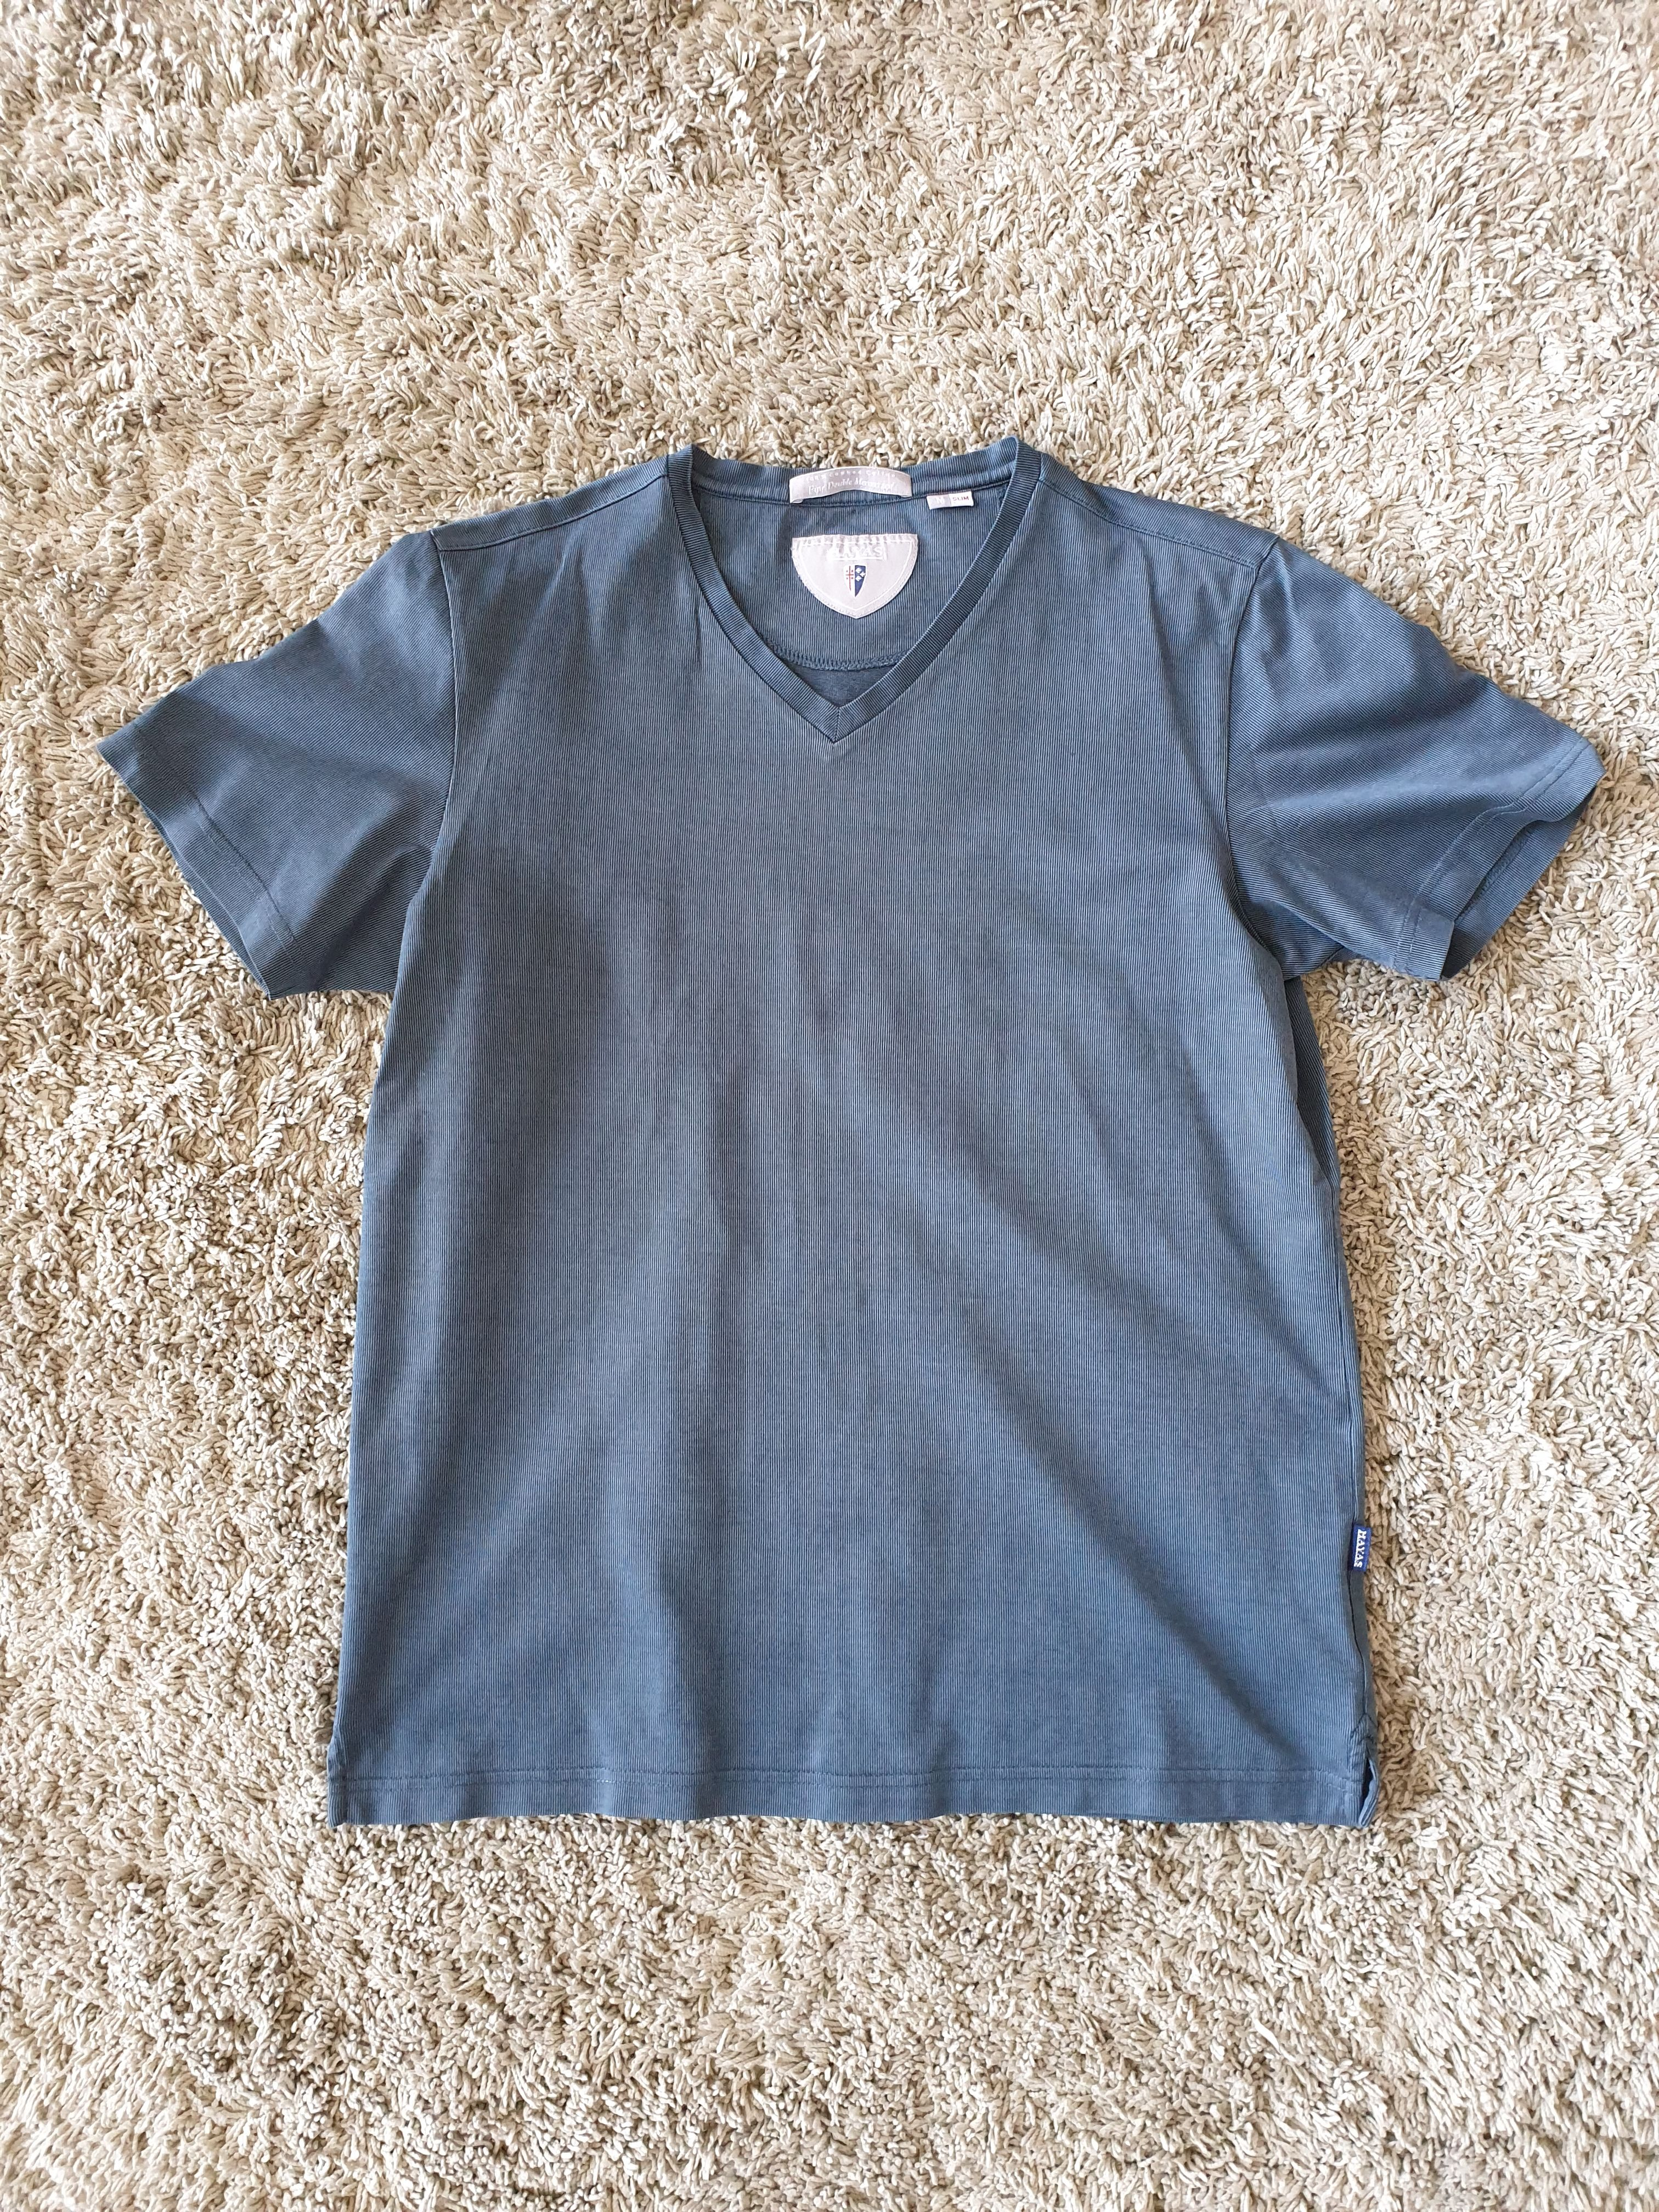clothes: (82, 434, 1610, 1825)
